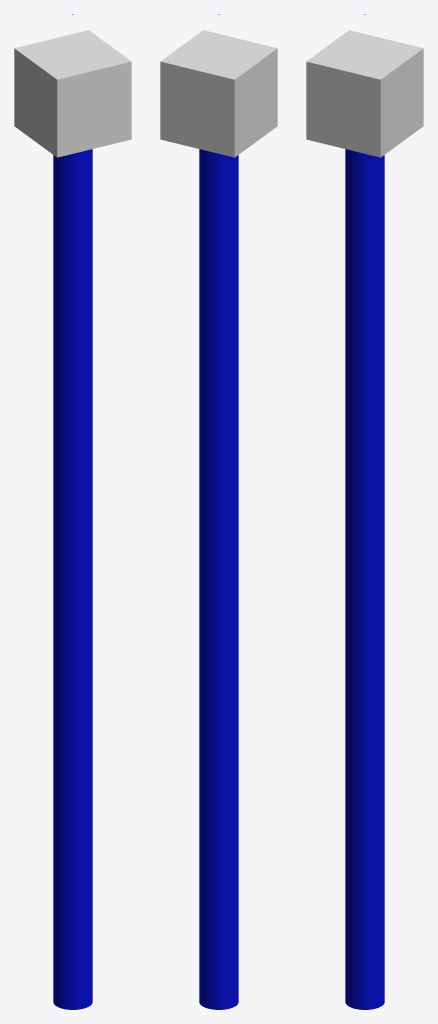
The model's file is eixo_z_transform.fbx.
3 renders of one model, left to right at view 1: azimuth 30°, elevation 25°; view 2: azimuth 150°, elevation 25°; view 3: azimuth 330°, elevation 25°, orthographic.
Parts seen in each view (by area): view 1: Cylinder-col, Cube; view 2: Cylinder-col, Cube; view 3: Cylinder-col, Cube.
Part boxes in pixels (<box>): Cylinder-col: <box>53,14,92,1009</box>; Cube: <box>14,30,131,157</box>; Cylinder-col: <box>199,14,238,1009</box>; Cube: <box>160,30,277,157</box>; Cylinder-col: <box>345,14,384,1009</box>; Cube: <box>306,30,423,157</box>.
Size of the model in its own units: 78.03 by 988 by 78.03.
